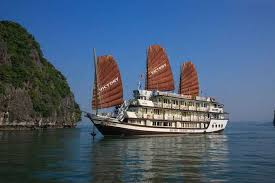tau_dansu: (89, 60, 229, 135)
